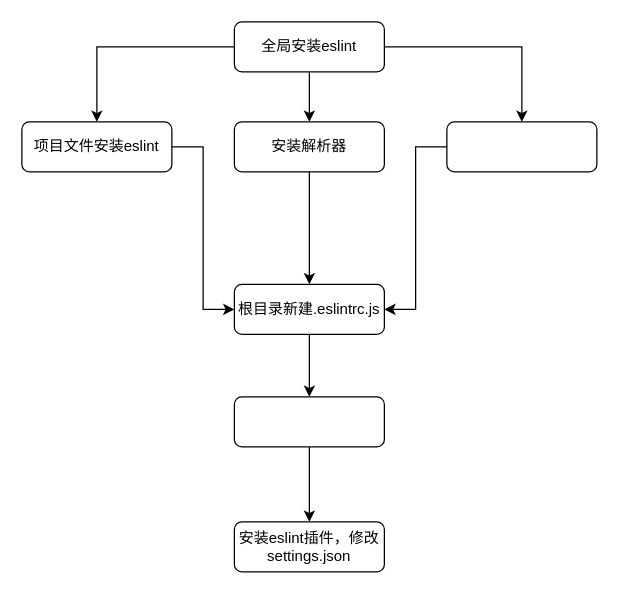
This 619x594 diagram has some shape labels left out. The shapes that lost their labels are listed below. From the top down, each one's centre as x and y in pixels, then its label:
(x=521, y=146): 安装需要的扩展
(x=308, y=421): 修改parser和extends等配置字段
